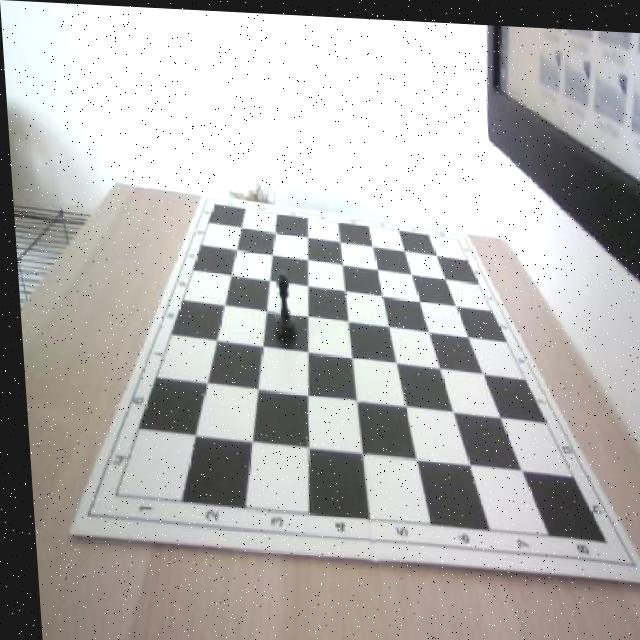black-knight: (267, 267, 291, 338)
